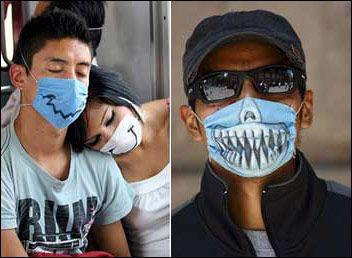OK: (196, 61, 309, 174), (28, 52, 101, 125), (84, 105, 136, 157)
